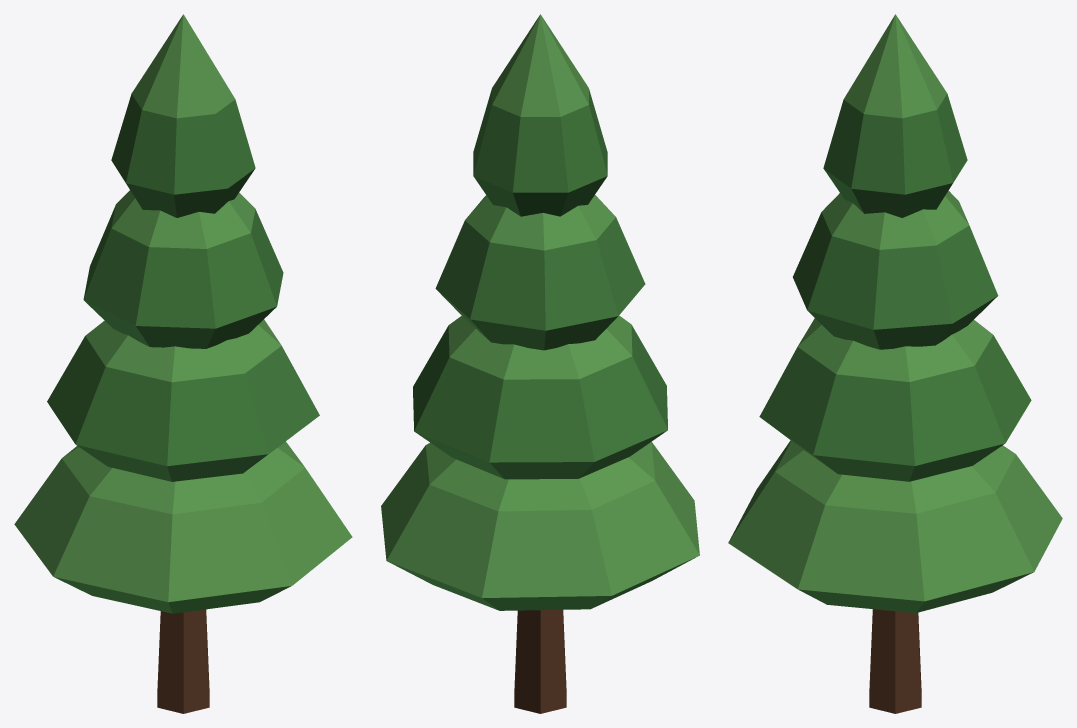
The model's file is tree_pineRoundE.glb.
3 views of the same model, side by side, from view 1: azimuth 30°, elevation 25°; view 2: azimuth 150°, elevation 25°; view 3: azimuth 270°, elevation 25° (orthographic).
Parts seen in each view (by area): view 1: tree_pineRoundE; view 2: tree_pineRoundE; view 3: tree_pineRoundE.
Part boxes in pixels (<box>): tree_pineRoundE: <box>14,14,352,713</box>; tree_pineRoundE: <box>381,14,699,713</box>; tree_pineRoundE: <box>728,14,1062,713</box>.
Size of the model in its own units: 0.5517 by 1.25 by 0.5517.
Materials: 1 (1 with a texture image).
